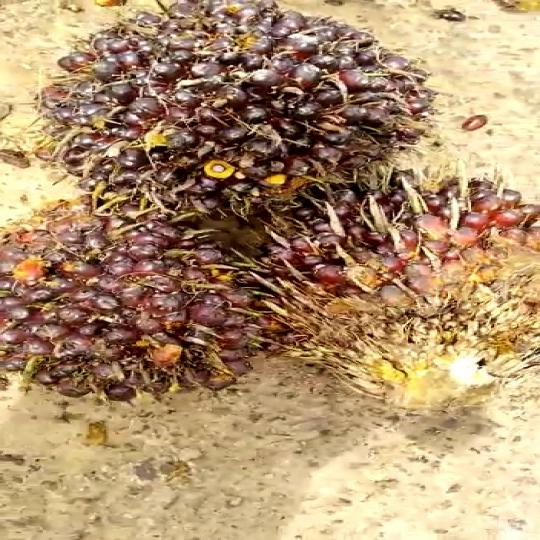kurang masak: (38, 2, 416, 231), (254, 172, 540, 422), (0, 220, 270, 398)
